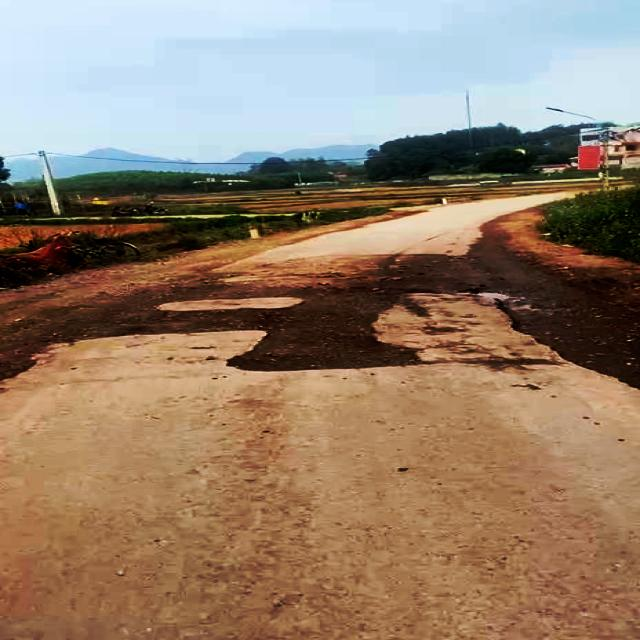pothole: (228, 294, 430, 372)
